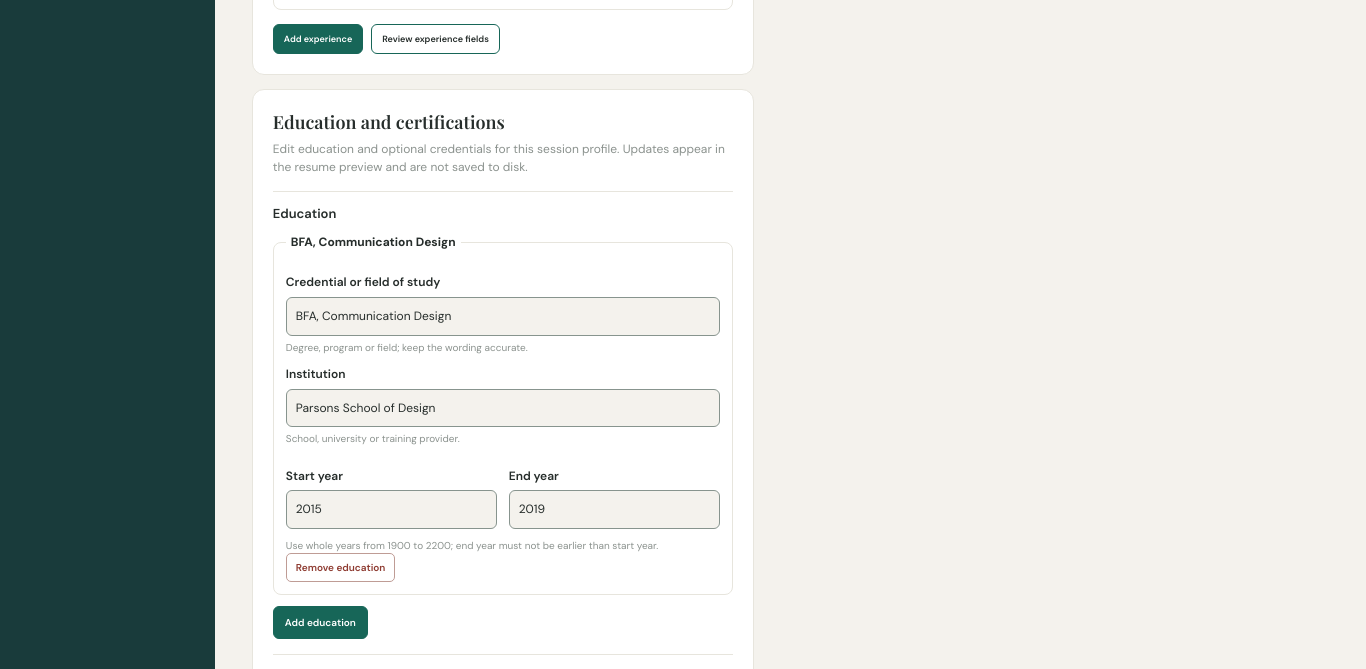
Scenario: Forma education and certification editors › supports synthetic Persian education text and keeps credential URLs left-to-right
(page scrolled)
Replace the text in the field labelled "Credential or field of study" with "کارشناسی ارشد طراحی خدمات" at [503, 316], box left=286, top=297, right=720, bottom=336
(page scrolled)
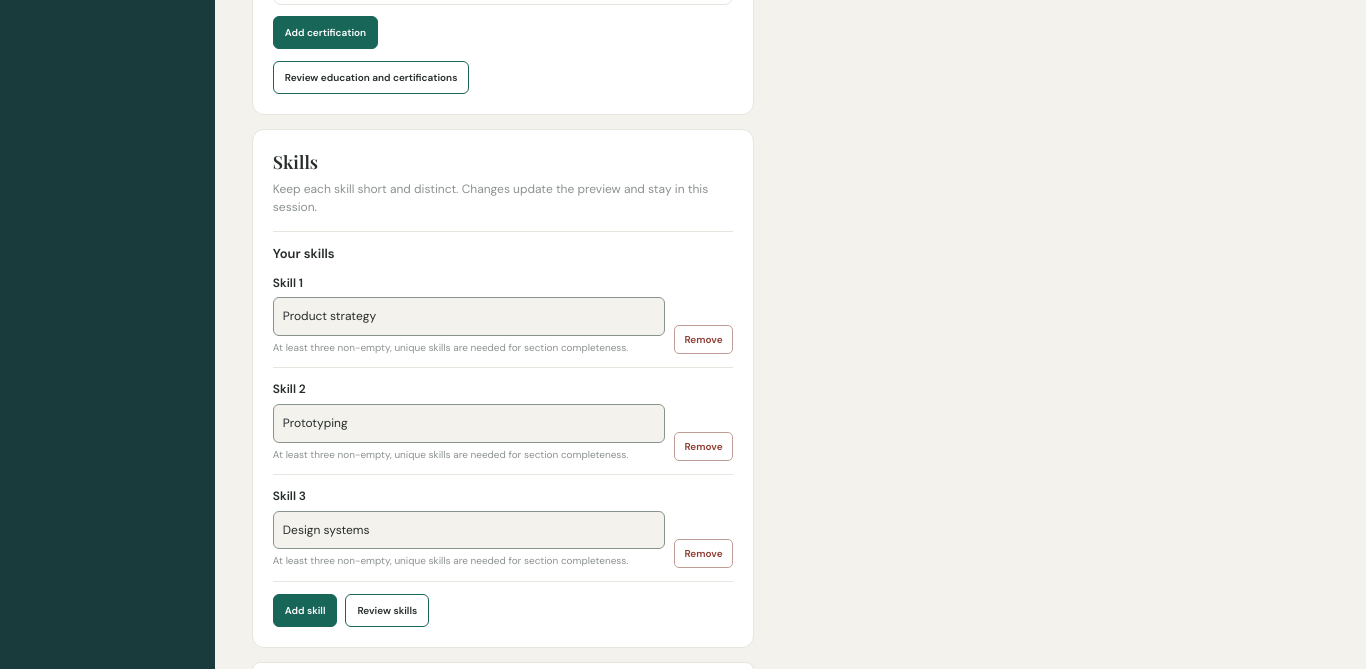
Replace the text in the field labelled "Skill 1" with "طراحی سامانه" at [469, 317], box left=273, top=297, right=665, bottom=336
(page scrolled)
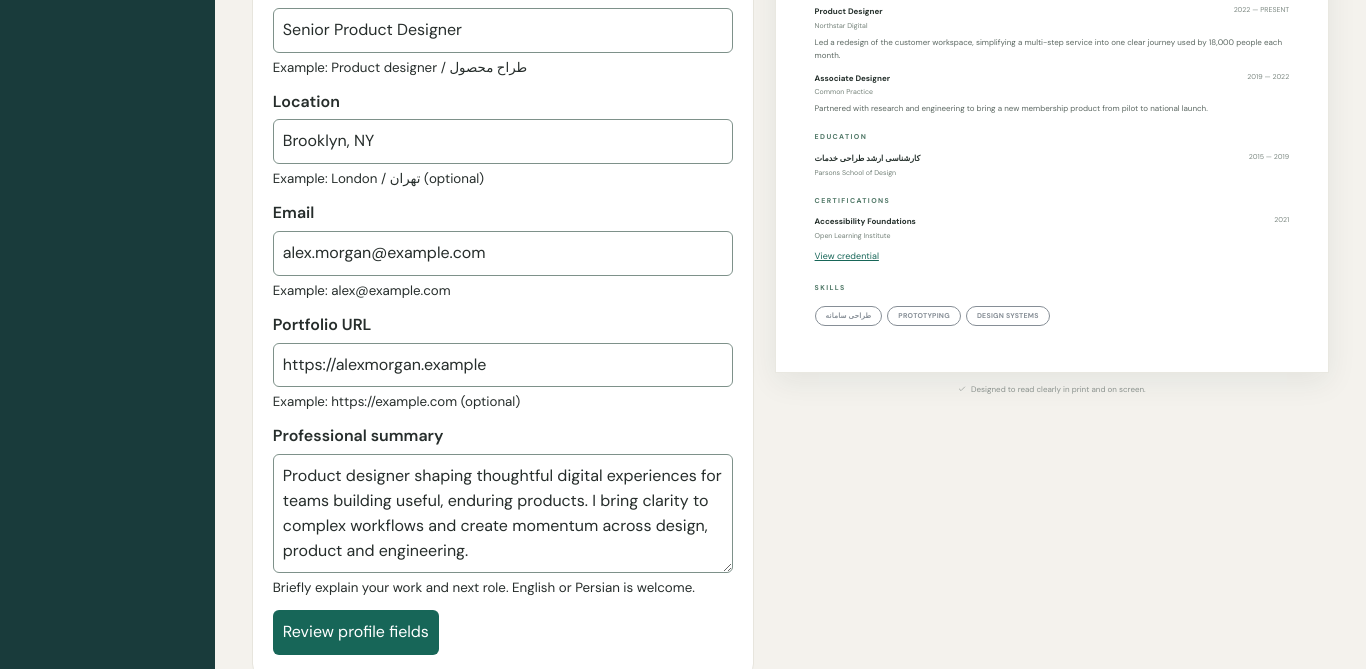
expect the text "طراحی سامانه" is shown: met, box left=826, top=311, right=871, bottom=320
